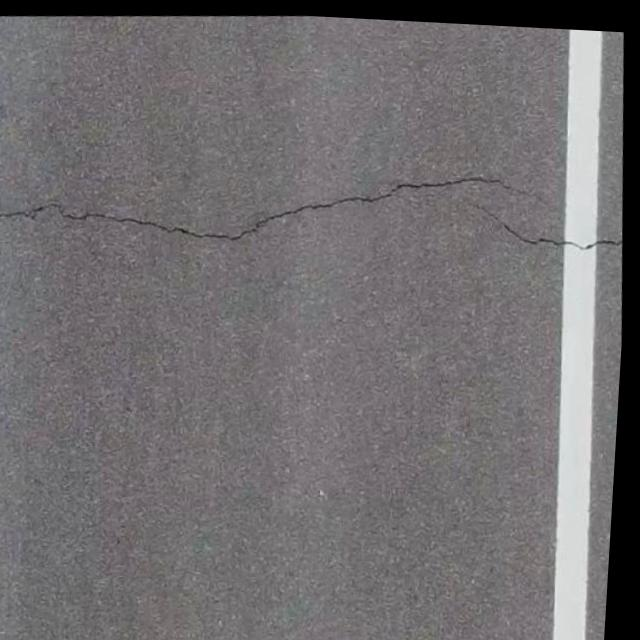Crack: (0, 136, 629, 283)
